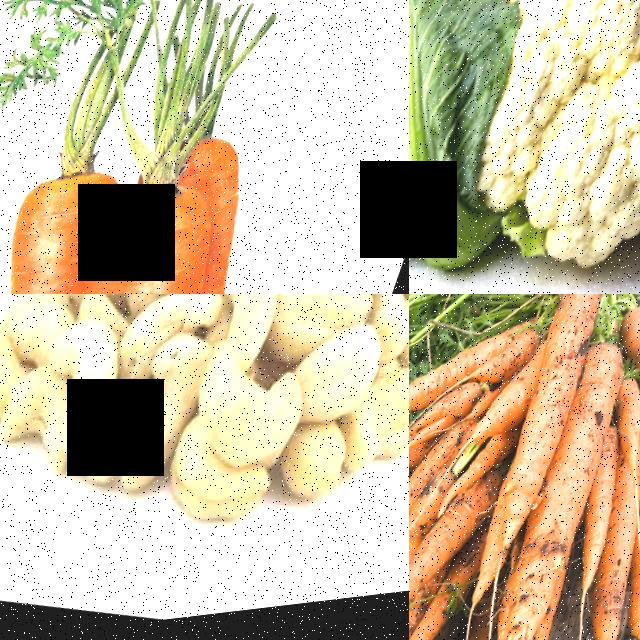carrot: (504, 303, 640, 640), (480, 294, 624, 560), (23, 177, 270, 294), (0, 156, 134, 294), (566, 435, 640, 610), (409, 301, 530, 402), (576, 487, 640, 640), (409, 448, 440, 631)
cashew: (120, 337, 240, 518), (37, 308, 156, 466), (195, 359, 335, 484), (165, 439, 299, 558), (294, 318, 403, 446), (266, 294, 390, 373), (210, 294, 309, 374), (350, 371, 409, 500), (295, 424, 368, 510)
cauliflower: (409, 0, 640, 294)
